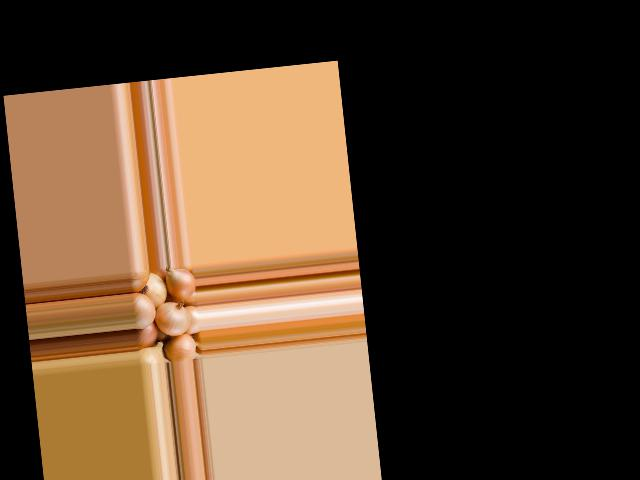onion: (181, 303, 200, 335)
